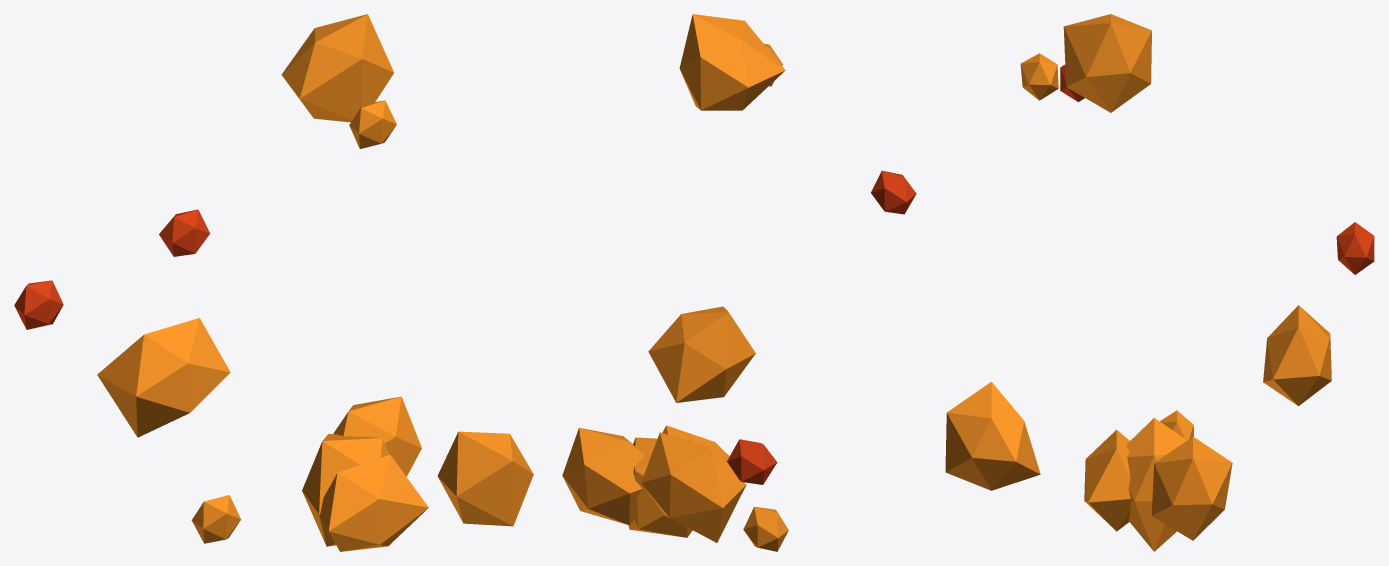
File: frame_10.glb
3 views of the same model, side by side, from view 1: azimuth 30°, elevation 25°; view 2: azimuth 150°, elevation 25°; view 3: azimuth 270°, elevation 25° (orthographic). The views are drawn at different scales.
Visible parts, largest first — view 1: effect_explosion_large_frame_10; view 2: effect_explosion_large_frame_10; view 3: effect_explosion_large_frame_10.
Boxes of the visible parts, x1,y1,x2,y2 form: effect_explosion_large_frame_10: [14, 14, 533, 551]; effect_explosion_large_frame_10: [562, 14, 916, 551]; effect_explosion_large_frame_10: [945, 14, 1374, 551].
Size of the model in its own units: 11.51 by 18.97 by 14.5.
